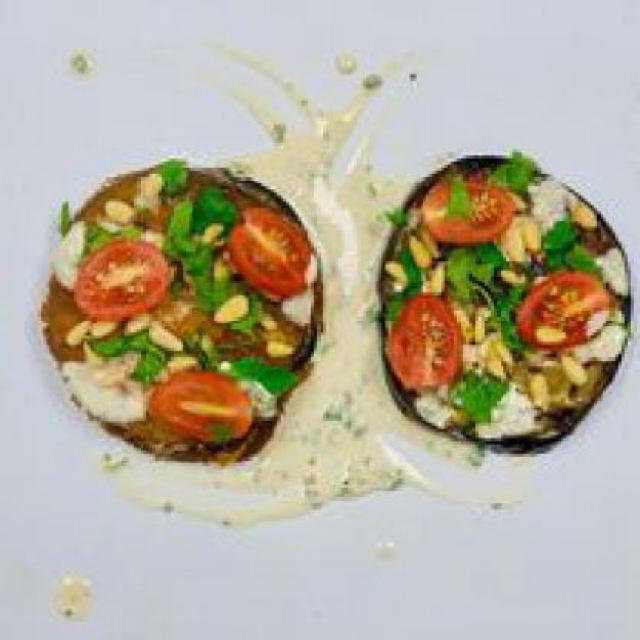eggplant: (40, 152, 618, 457)
hummus: (242, 71, 413, 504), (56, 214, 152, 429), (413, 360, 544, 435)
